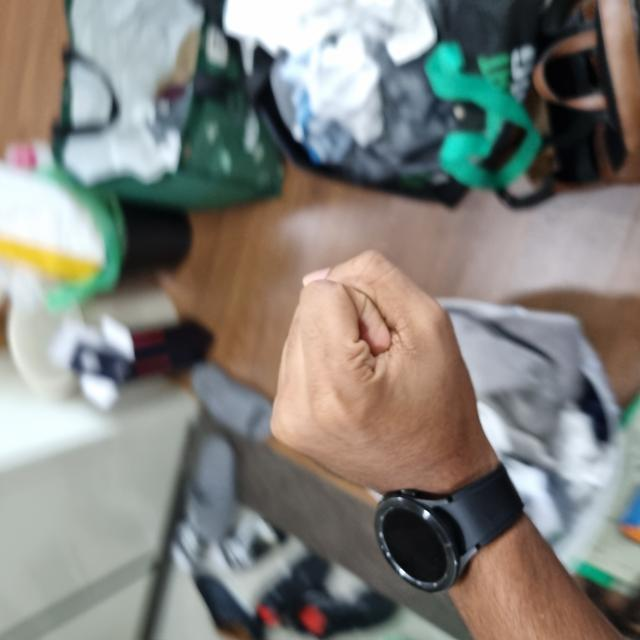Rock: (142, 272, 386, 491)
